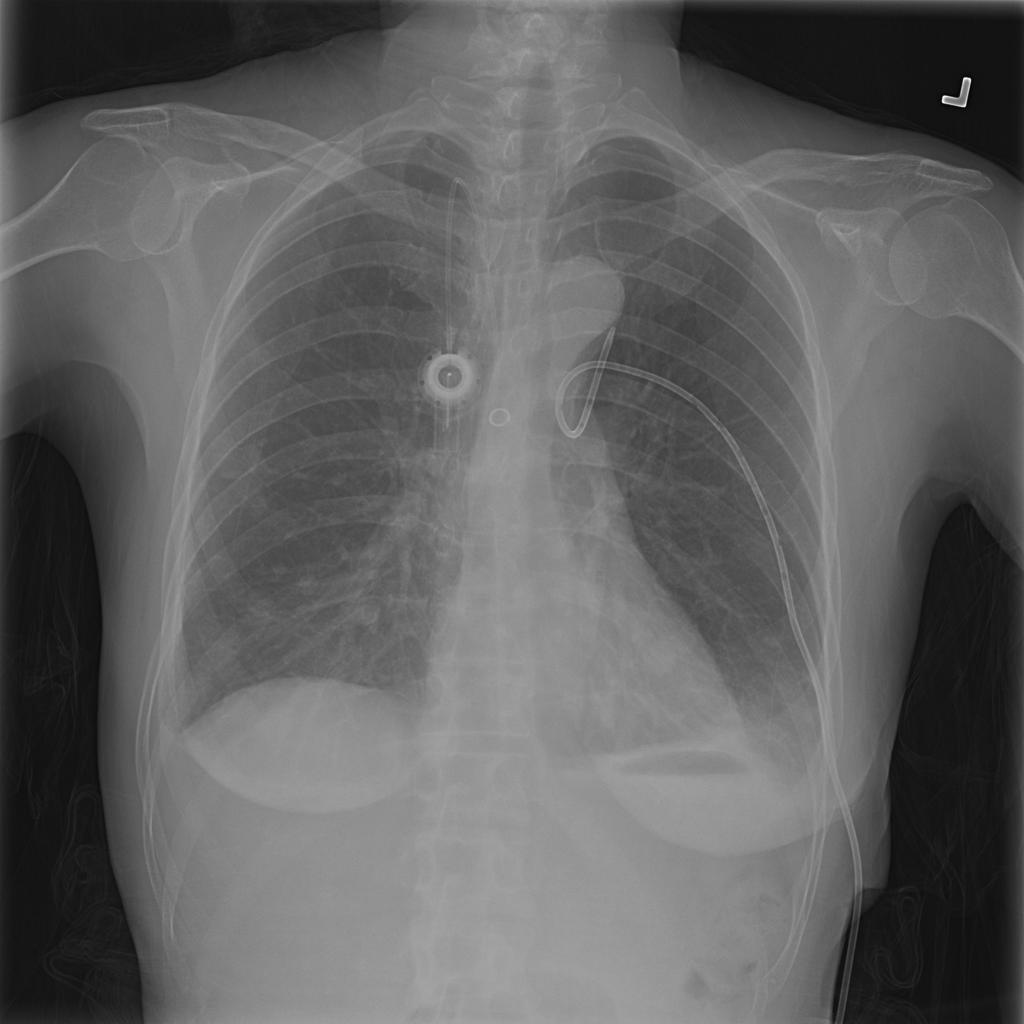nodule: (623, 615, 698, 689)
